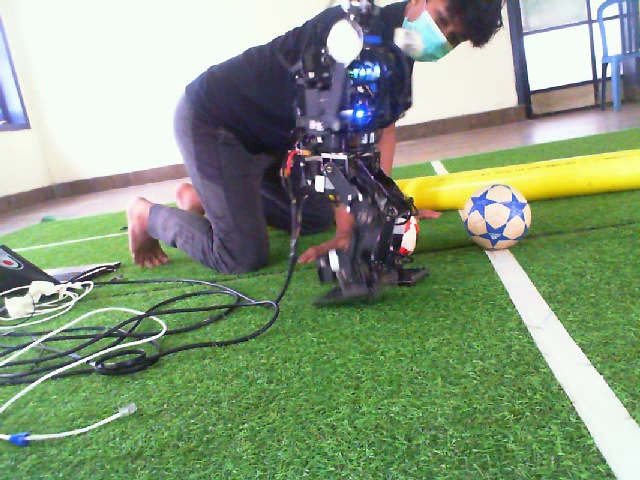ball: (461, 181, 534, 252), (391, 207, 422, 258)
